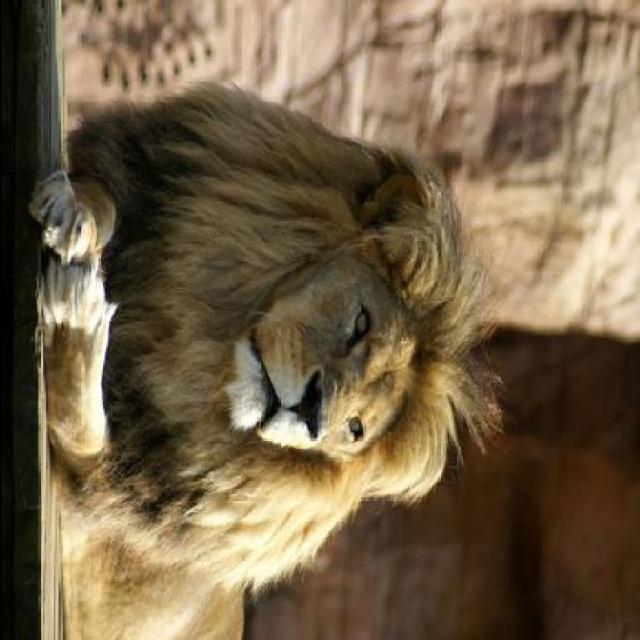Lion: (11, 69, 512, 626)
